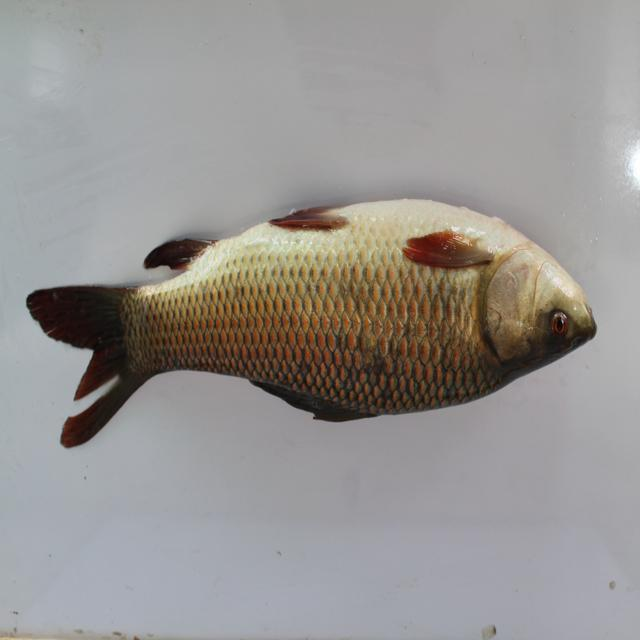Rohu: (13, 193, 619, 449)
